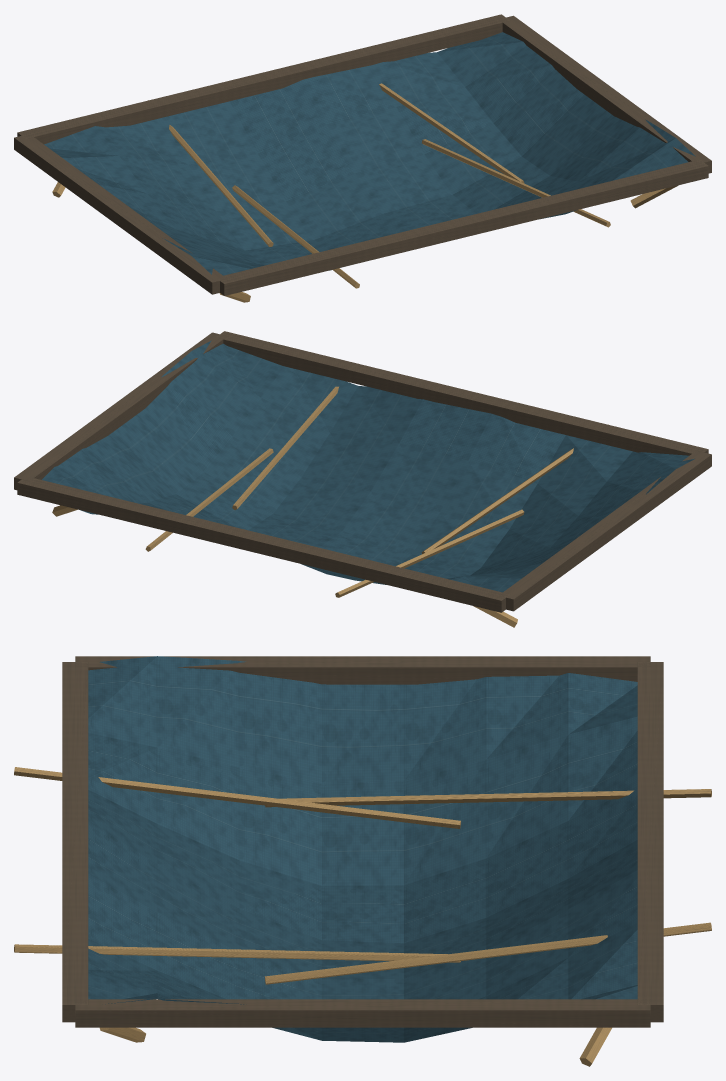
The model's file is en-020_rain_catcher_placement_set__cloth.obj.
The picture shows the model from 3 angles, top to bottom: view 1: azimuth 30°, elevation 25°; view 2: azimuth 150°, elevation 25°; view 3: azimuth 270°, elevation 25°; orthographic projection. The views are drawn at different scales.
Visible parts, largest first — view 1: en-020_rain_catcher_placement_set__cloth; view 2: en-020_rain_catcher_placement_set__cloth; view 3: en-020_rain_catcher_placement_set__cloth.
Part boxes in pixels (x1,y1,x2,y2): en-020_rain_catcher_placement_set__cloth: (14, 14, 711, 302); en-020_rain_catcher_placement_set__cloth: (14, 331, 711, 627); en-020_rain_catcher_placement_set__cloth: (14, 656, 711, 1066).
Bounding box in the file's own units: 1.13 × 0.2097 × 0.9462.
Materials: 3 (3 with a texture image).
